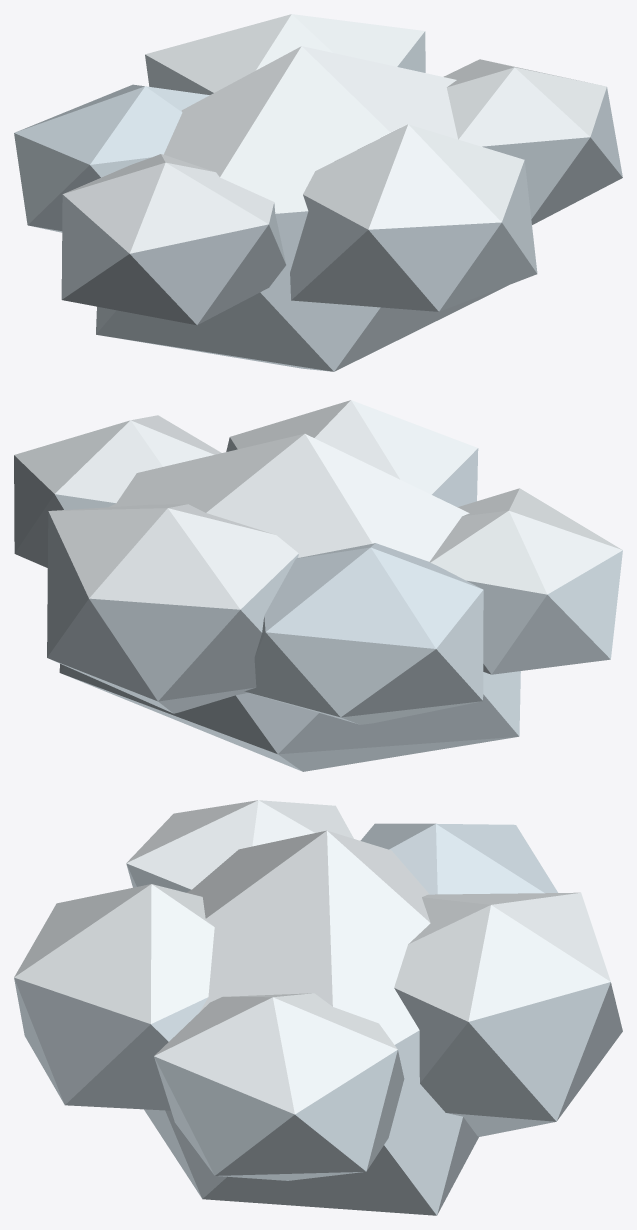
The model's file is snowbank_medium.glb.
3 renders of one model, top to bottom at view 1: azimuth 30°, elevation 25°; view 2: azimuth 150°, elevation 25°; view 3: azimuth 270°, elevation 25°, orthographic. The views are drawn at different scales.
Parts seen in each view (by area): view 1: snowbank_medium; view 2: snowbank_medium; view 3: snowbank_medium.
Part boxes in pixels (<box>): snowbank_medium: <box>14,14,622,371</box>; snowbank_medium: <box>14,400,622,771</box>; snowbank_medium: <box>14,800,622,1215</box>.
Size of the model in its own units: 1.66 by 0.9201 by 1.35.
